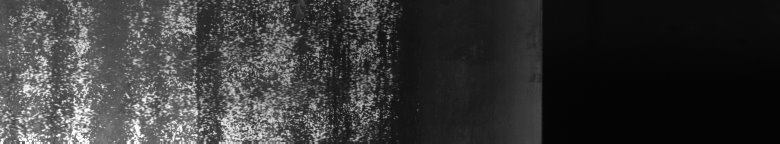kb: (4, 4, 403, 136)
